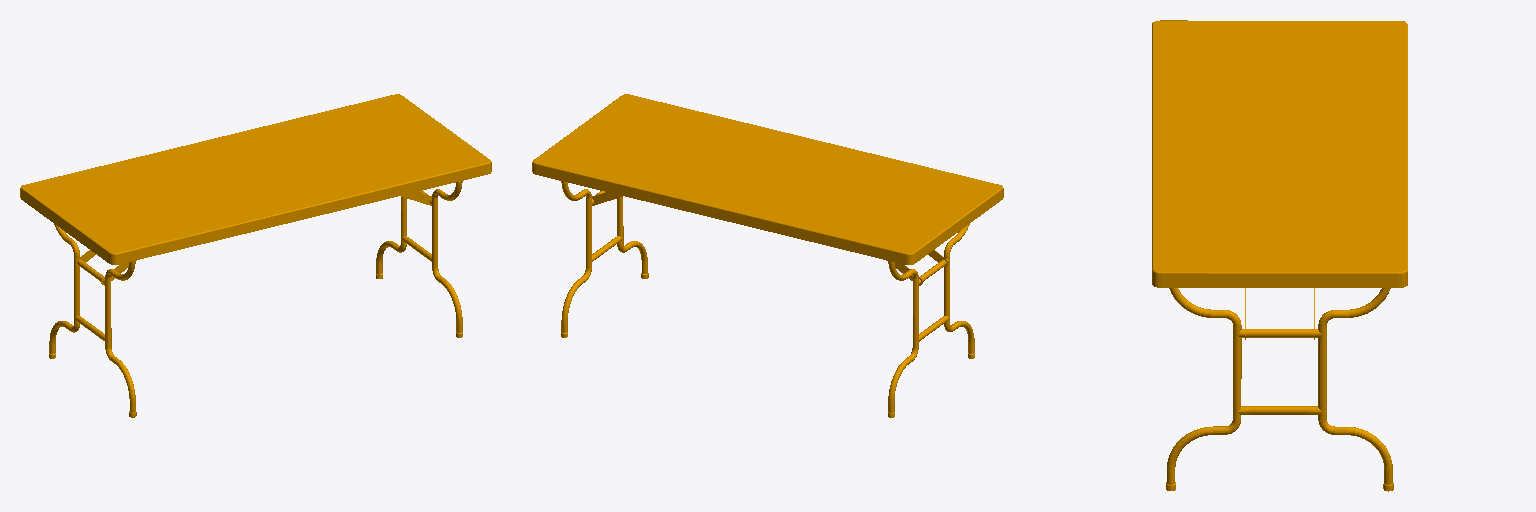
URDF robot description (table):
<?xml version="1.0" ?>
<robot name="table">
  <link name="table_link">
    <inertial>
      <mass value="1.0"/>
      <origin rpy="0 0 0" xyz="0 0 0"/>
      <inertia ixx="1.0" ixy="0.0" ixz="0.0" iyy="1.0" iyz="0.0" izz="1.0"/>
    </inertial>
    <collision name="table__collision">
      <origin rpy="0 0 0" xyz="0 0 -0.33"/>
      <geometry>
        <box size="1.8 0.78 0.76"/>
      </geometry>
    </collision>
    <visual name="table__visual">
      <origin rpy="1.57 0 0" xyz="0 0 0"/>
      <geometry>
        <mesh filename="package://schunk_lwa4p_moveit/meshes/table/table.stl" scale="0.1 0.1 0.1"/>
      </geometry>
    </visual>
    <gazebo reference="table_box">
      <material>Gazebo/White</material>
    </gazebo>
  </link>
</robot>

--- What the picture shows (computed from the rendered views, not written in the file) ---
Views: 3 orthographic renders of the robot side by side, from view 1: azimuth 30°, elevation 25°; view 2: azimuth 150°, elevation 25°; view 3: azimuth 270°, elevation 25°.
Robot: table — 1 links, 0 joints (none); root link table_link; default pose: all joints at 0.
Links seen in each view (by area): view 1: table_link; view 2: table_link; view 3: table_link.
Boxes of the visible links, x1,y1,x2,y2 form: table_link: (20, 94, 491, 417); table_link: (532, 94, 1003, 417); table_link: (1152, 20, 1407, 491).
Bounding box of the posed robot: 1.78 × 0.762 × 0.7729 m (x, y, z).
Meshes: 1 distinct files referenced, 1 mesh visuals loaded (1 binary STL).